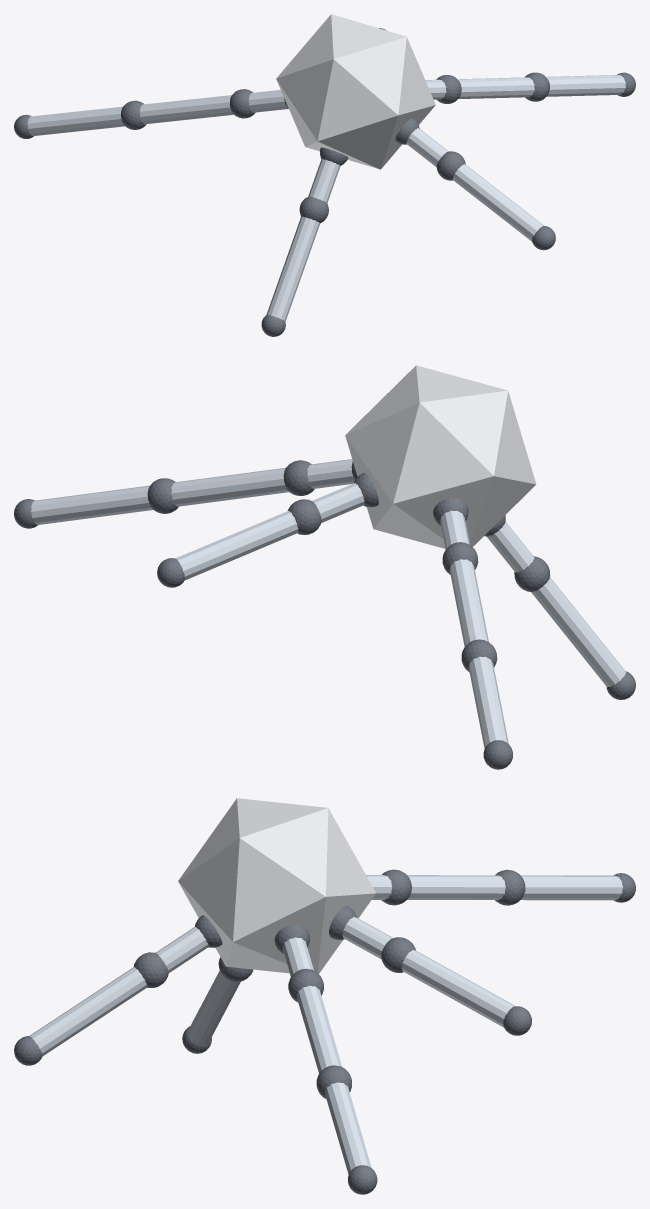
Rendered from g0_33222_0_abs.glb.
3 renders of one model, top to bottom at view 1: azimuth 30°, elevation 25°; view 2: azimuth 150°, elevation 25°; view 3: azimuth 270°, elevation 25°, orthographic. The views are drawn at different scales.
Visible parts, largest first — view 1: geom_0, geom_11, geom_21, geom_6, geom_4, geom_28, geom_26, geom_9, geom_19, geom_2, geom_10, geom_20 (+4 smaller); view 2: geom_0, geom_16, geom_11, geom_28, geom_26, geom_6, geom_4, geom_14, geom_9, geom_24, geom_15, geom_10 (+7 smaller); view 3: geom_0, geom_21, geom_16, geom_6, geom_4, geom_28, geom_26, geom_11, geom_19, geom_14, geom_20, geom_15 (+8 smaller).
Boxes of the visible parts, <box> form: geom_0: <box>276,14,435,169</box>; geom_11: <box>266,216,320,321</box>; geom_21: <box>452,164,543,241</box>; geom_6: <box>27,106,124,135</box>; geom_4: <box>140,95,233,124</box>; geom_28: <box>546,75,625,96</box>; geom_26: <box>458,77,534,98</box>; geom_9: <box>308,159,340,202</box>; geom_19: <box>406,128,448,166</box>; geom_2: <box>248,90,288,112</box>; geom_10: <box>299,196,328,223</box>; geom_20: <box>436,151,465,180</box>; geom_0: <box>345,365,536,548</box>; geom_16: <box>175,510,298,580</box>; geom_11: <box>531,577,625,687</box>; geom_28: <box>31,485,152,524</box>; geom_26: <box>171,467,288,506</box>; geom_6: <box>468,656,508,748</box>; geom_4: <box>449,559,488,646</box>; geom_14: <box>312,483,364,522</box>; geom_9: <box>486,521,534,572</box>; geom_24: <box>307,459,354,488</box>; geom_15: <box>287,499,321,534</box>; geom_10: <box>514,556,550,591</box>; geom_0: <box>178,798,376,973</box>; geom_21: <box>29,967,147,1055</box>; geom_16: <box>401,950,515,1027</box>; geom_6: <box>521,875,623,900</box>; geom_4: <box>407,875,505,899</box>; geom_28: <box>324,1082,371,1174</box>; geom_26: <box>296,985,341,1073</box>; geom_11: <box>187,970,240,1045</box>; geom_19: <box>155,927,208,972</box>; geom_14: <box>342,917,393,959</box>; geom_20: <box>133,952,168,987</box>; geom_15: <box>381,937,415,972</box>.
Bounding box in the file's own units: 0.58 × 0.2759 × 0.5005.
